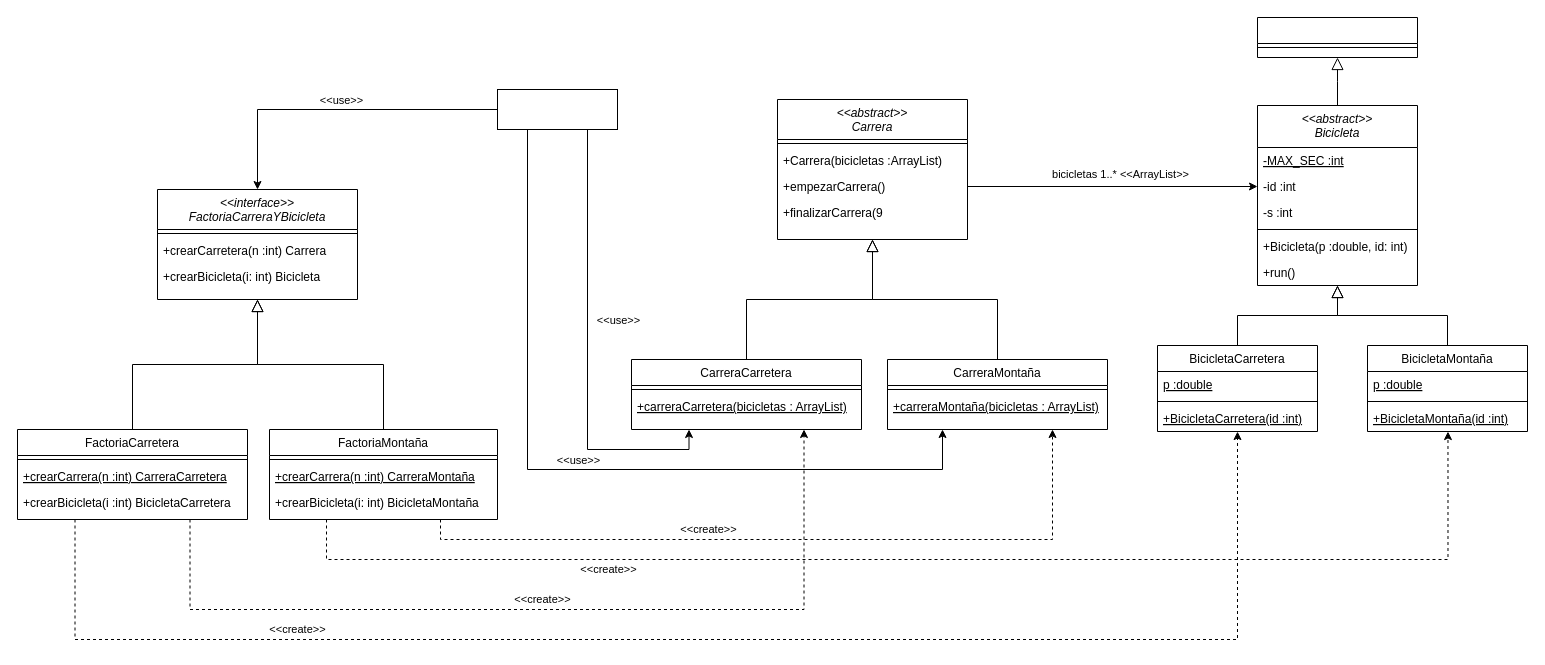
The diagram is 1545 pixels wide and 665 high, and some of its shapes have lost their labels. Each missing label, with the centre of its shape:
"Main" goes at (x=557, y=109).
"Thread" goes at (x=1337, y=37).
